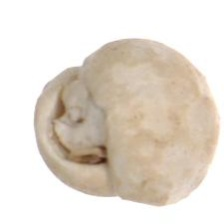L3: (45, 75, 114, 170)
L4: (33, 38, 219, 206)
